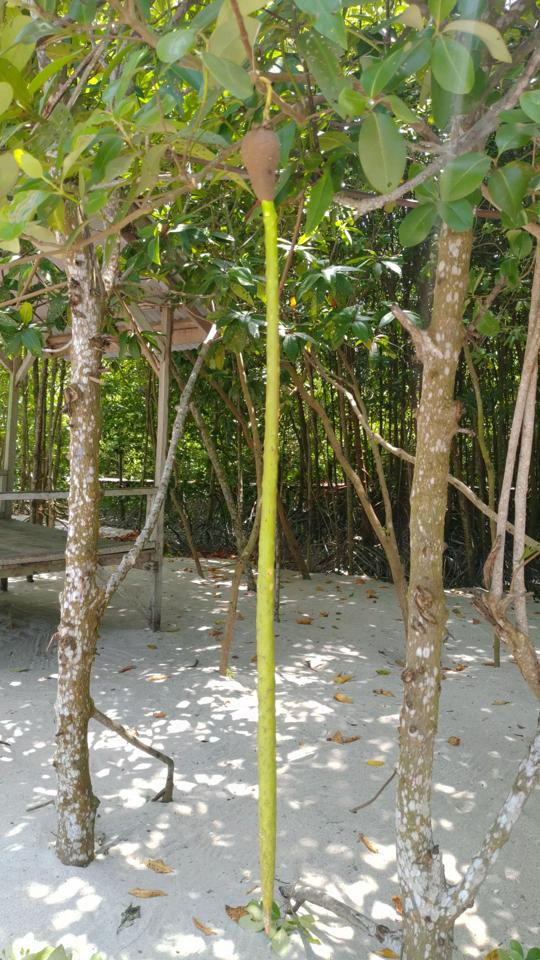mentah: (226, 108, 304, 932)
